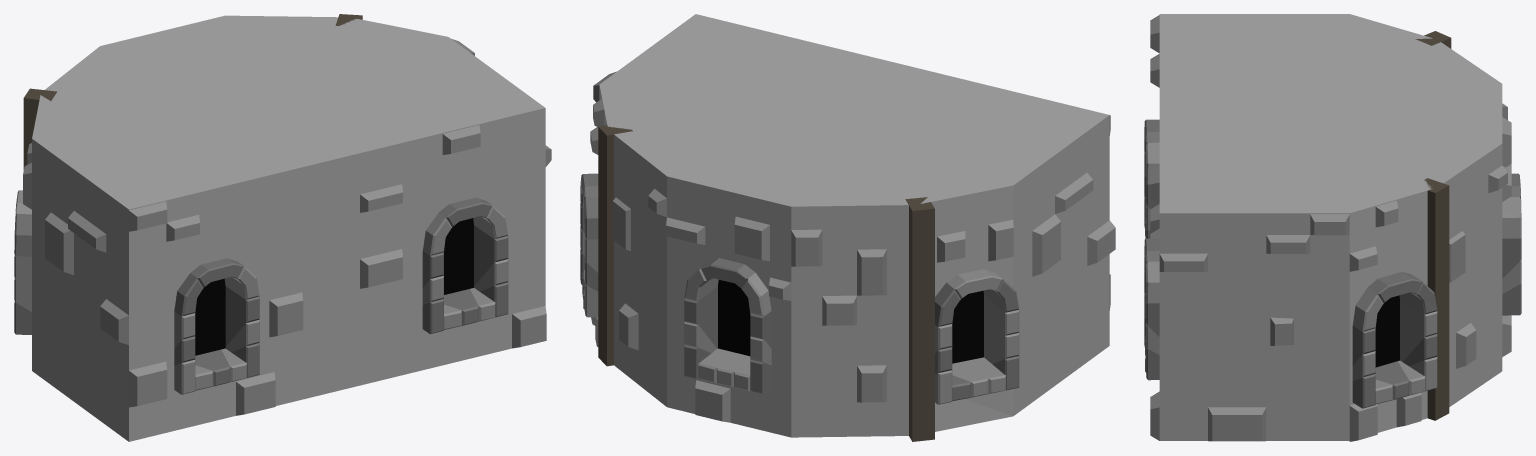
The model's file is _FORTRESS_MIDDLE_01.fbx.
3 renders of one model, left to right at view 1: azimuth 30°, elevation 25°; view 2: azimuth 150°, elevation 25°; view 3: azimuth 270°, elevation 25°, orthographic. The views are drawn at different scales.
Visible parts, largest first — view 1: FORTRESS_MIDDLE_01; view 2: FORTRESS_MIDDLE_01; view 3: FORTRESS_MIDDLE_01.
Part boxes in pixels (x1=…): FORTRESS_MIDDLE_01: x1=14, y1=14, x2=551, y2=441; FORTRESS_MIDDLE_01: x1=580, y1=14, x2=1115, y2=441; FORTRESS_MIDDLE_01: x1=1144, y1=14, x2=1521, y2=441.
Bounding box in the file's own units: 453 × 230 × 343.
